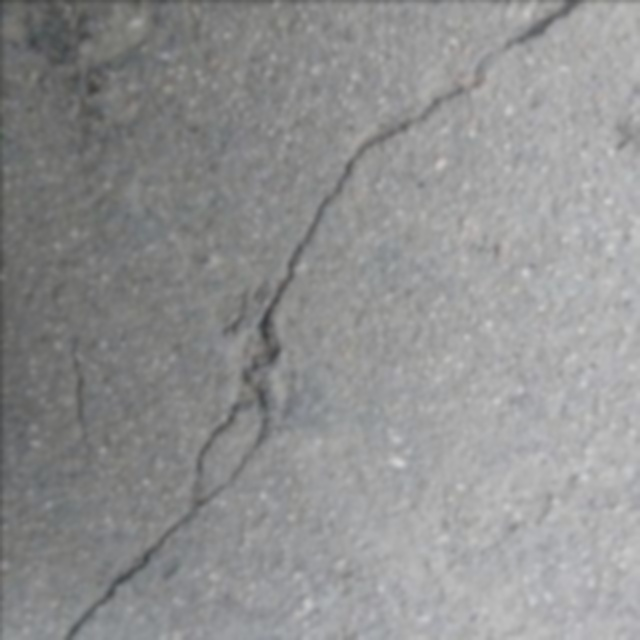SurfaceCrack: (46, 0, 586, 640)
